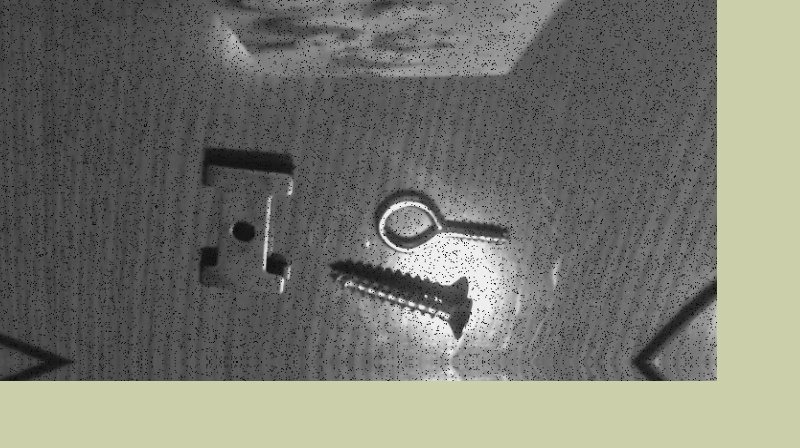O001: (372, 190, 518, 255)
O002: (194, 150, 303, 296)
S001: (325, 261, 483, 342)
